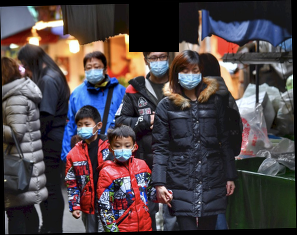with_mask: (177, 66, 204, 92), (147, 52, 170, 78), (84, 61, 106, 87), (112, 139, 134, 163), (75, 119, 94, 140)
